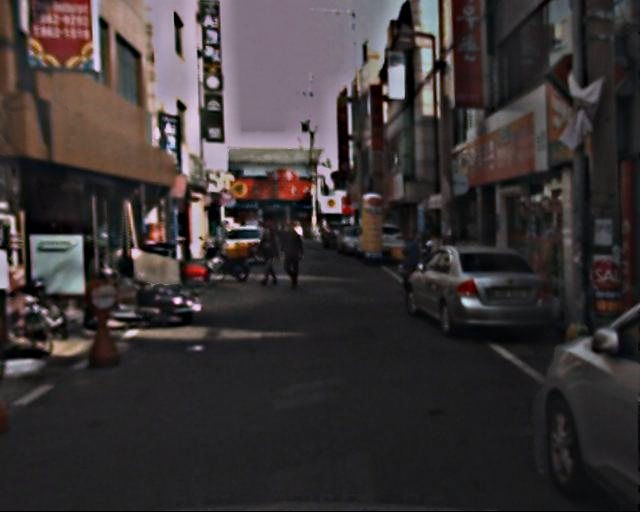person: (277, 216, 307, 294), (396, 225, 424, 306), (256, 219, 281, 287)
